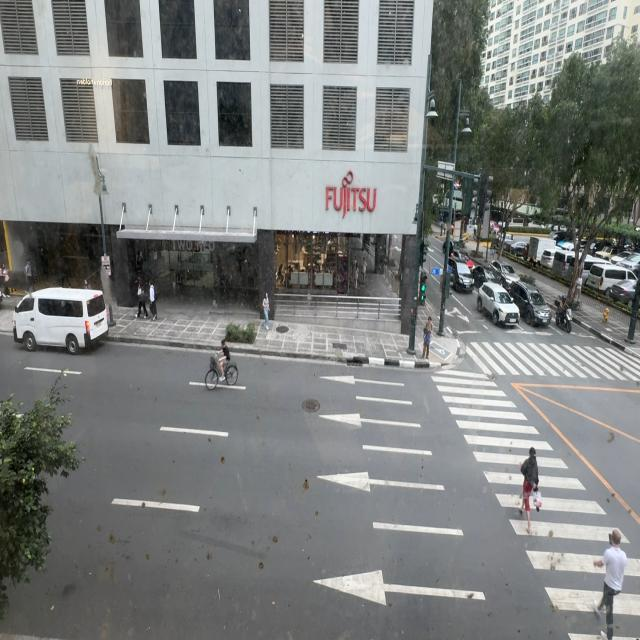crossing: (593, 532, 628, 640), (516, 440, 541, 540)
pedestrain: (262, 292, 270, 329)
waiting: (422, 316, 433, 361)
